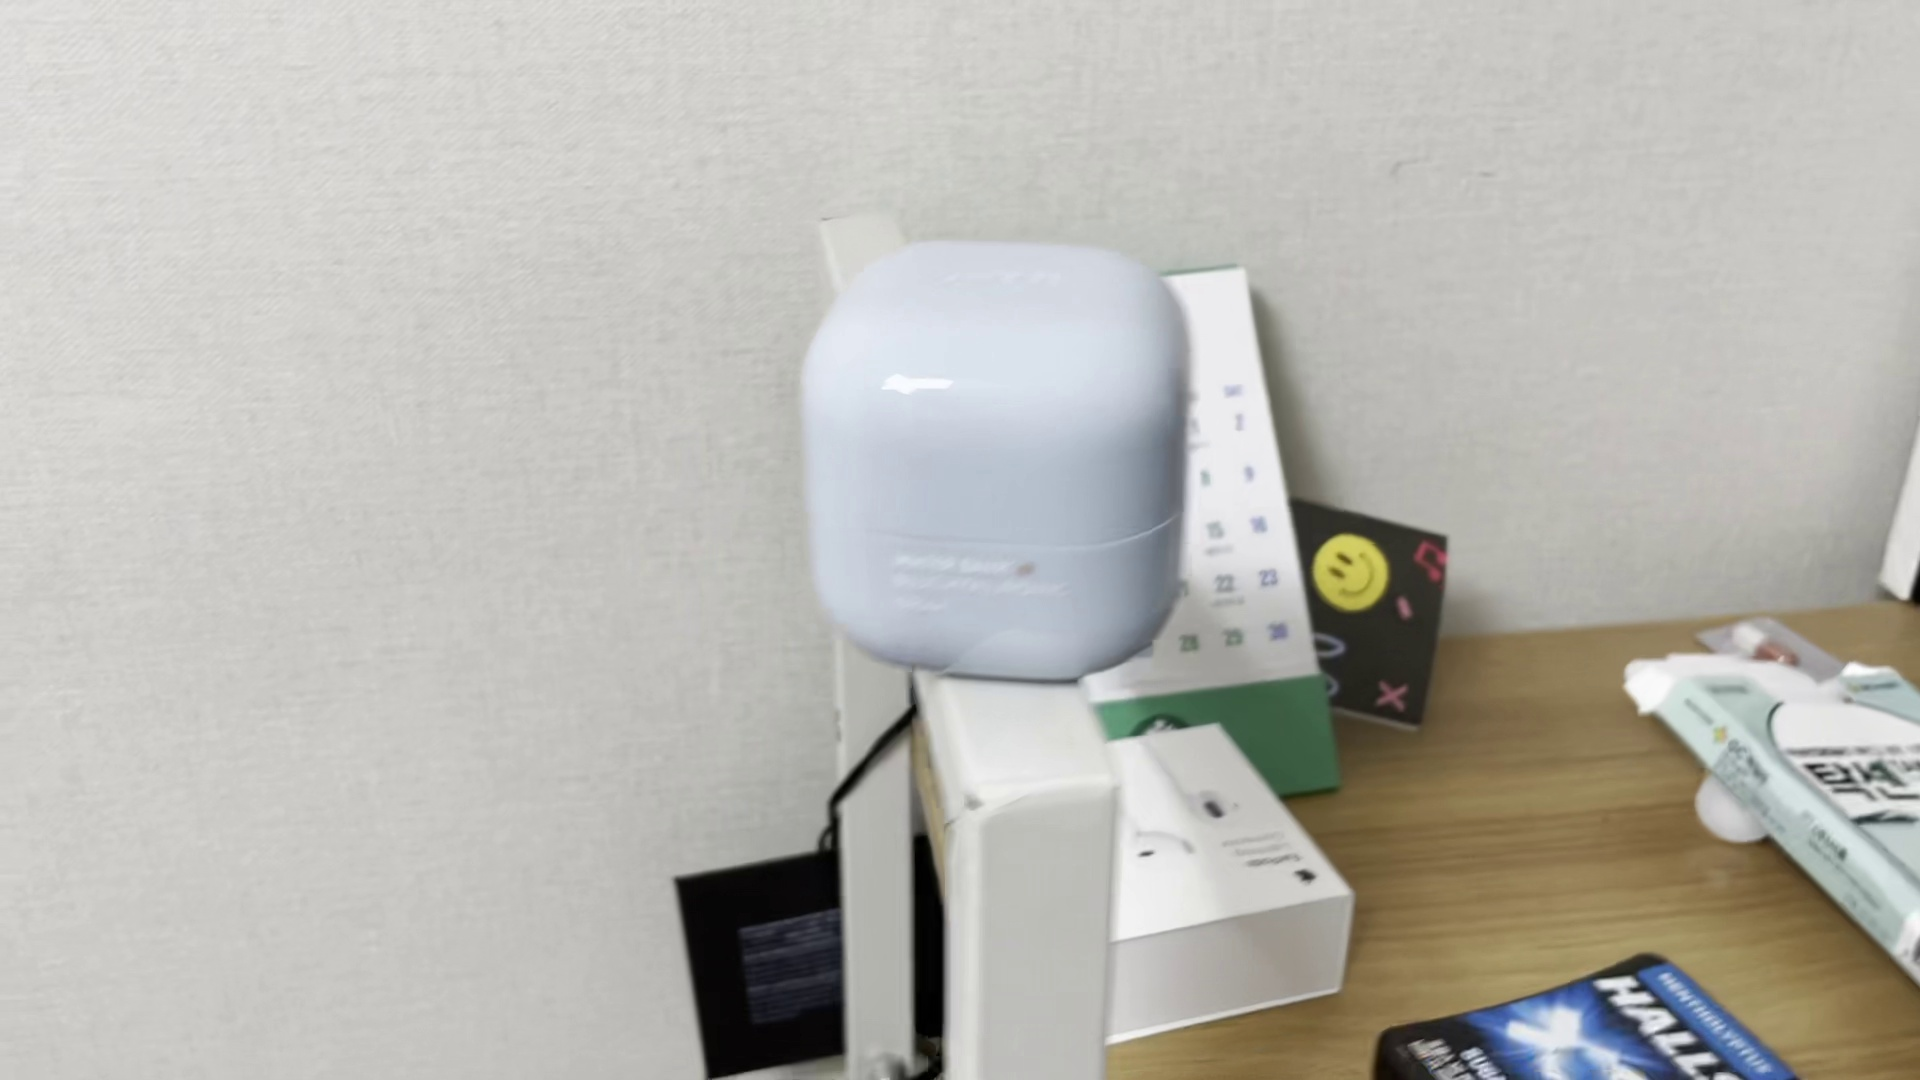cream: (810, 243, 1184, 670)
